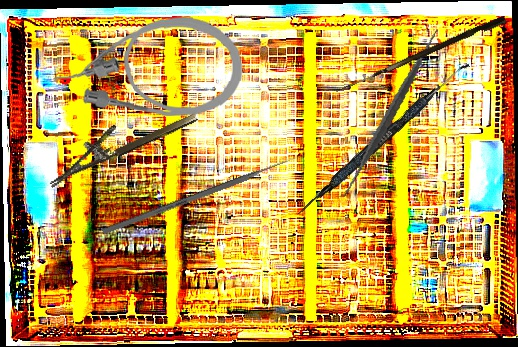Cannula: (52, 12, 246, 119)
Hook Surgical: (335, 12, 507, 101)
Needle Holder: (38, 93, 200, 188)
Pusher: (101, 153, 300, 236)
Spatula Surgical: (305, 28, 476, 198), (295, 56, 471, 221)
